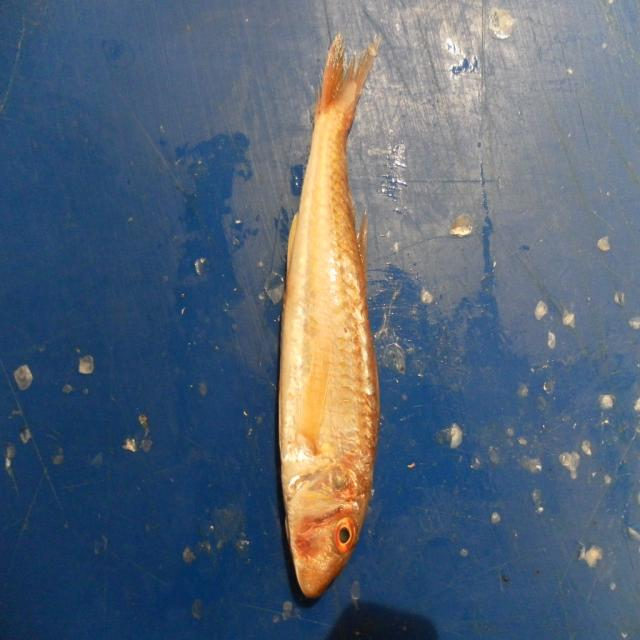Striped-Red-Mullet-tekir-: (276, 33, 381, 608)
